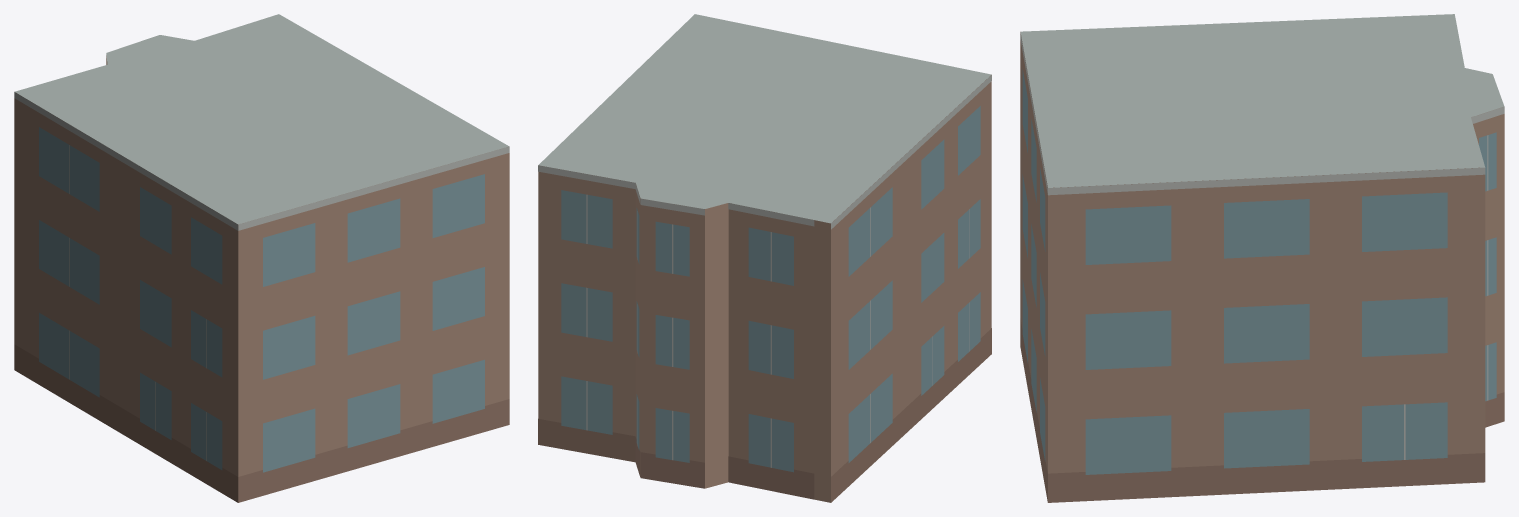
File: survey-upis-32884526.glb
3 views of the same model, side by side, from view 1: azimuth 30°, elevation 25°; view 2: azimuth 150°, elevation 25°; view 3: azimuth 270°, elevation 25° (orthographic). The views are drawn at different scales.
Parts seen in each view (by area): view 1: survey-upis-32884526.tmp; view 2: survey-upis-32884526.tmp; view 3: survey-upis-32884526.tmp.
Boxes of the visible parts, box(x1,y1,x2,y2) form: survey-upis-32884526.tmp: box(14, 14, 509, 502); survey-upis-32884526.tmp: box(538, 14, 991, 502); survey-upis-32884526.tmp: box(1020, 14, 1504, 502).
Size of the model in its own units: 12.57 by 10.6 by 14.78.
